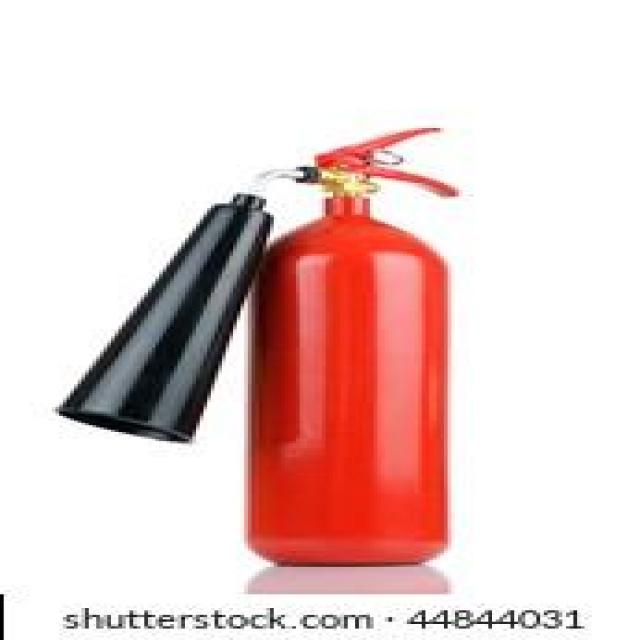fire_extinguisher: (45, 118, 478, 568)
